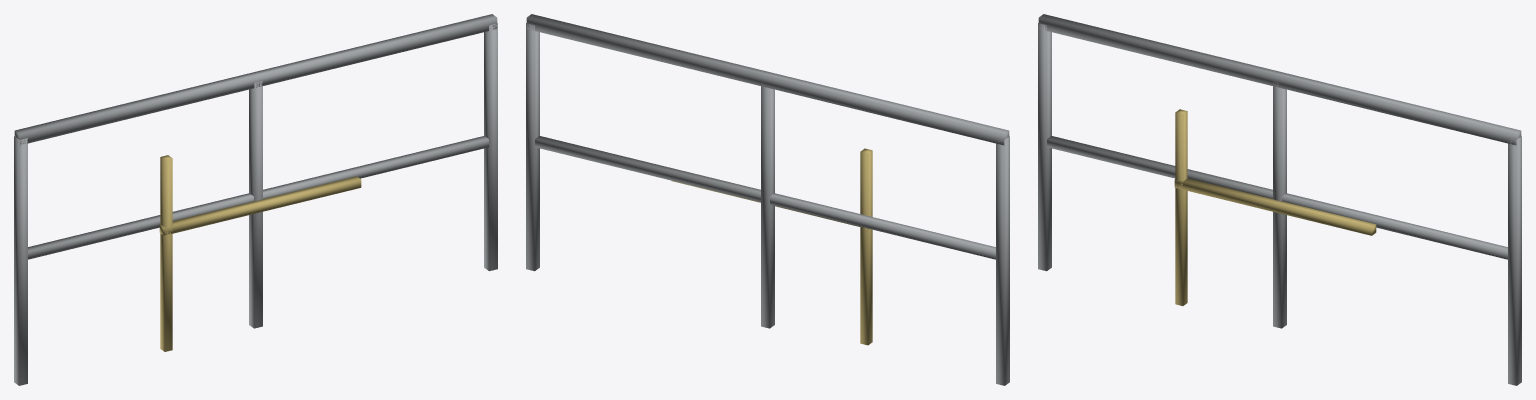
The model's file is residential_gate_l240_h120.glb.
3 renders of one model, left to right at view 1: azimuth 30°, elevation 25°; view 2: azimuth 150°, elevation 25°; view 3: azimuth 330°, elevation 25°, orthographic.
Visible parts, largest first — view 1: world; view 2: world; view 3: world.
Boxes of the visible parts, box(x1,y1,x2,y2) form: world: box(14, 14, 497, 385); world: box(526, 14, 1009, 385); world: box(1038, 14, 1521, 385).
Bounding box in the file's own units: 2.44 × 1.23 × 0.0825.
